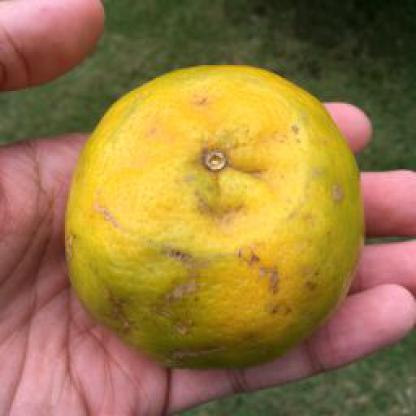orange_rotten: (62, 64, 366, 372)
